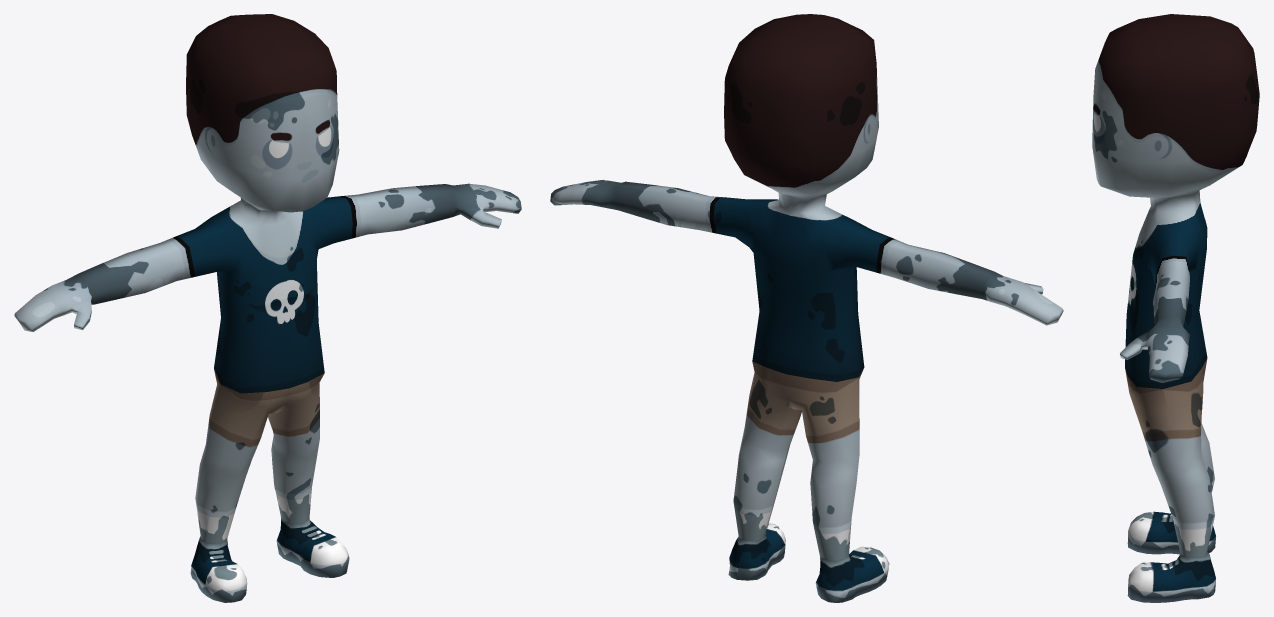
Rendered from ojisan2.fbx.
3 renders of one model, left to right at view 1: azimuth 30°, elevation 25°; view 2: azimuth 150°, elevation 25°; view 3: azimuth 270°, elevation 25°, orthographic.
Visible parts, largest first — view 1: characterMedium; view 2: characterMedium; view 3: characterMedium.
Boxes of the visible parts, x1,y1,x2,y2 form: characterMedium: [14, 14, 521, 602]; characterMedium: [550, 14, 1063, 602]; characterMedium: [1092, 14, 1259, 602].
Bounding box in the file's own units: 3.62 × 3.76 × 1.05.
1 material, 1 textured.
